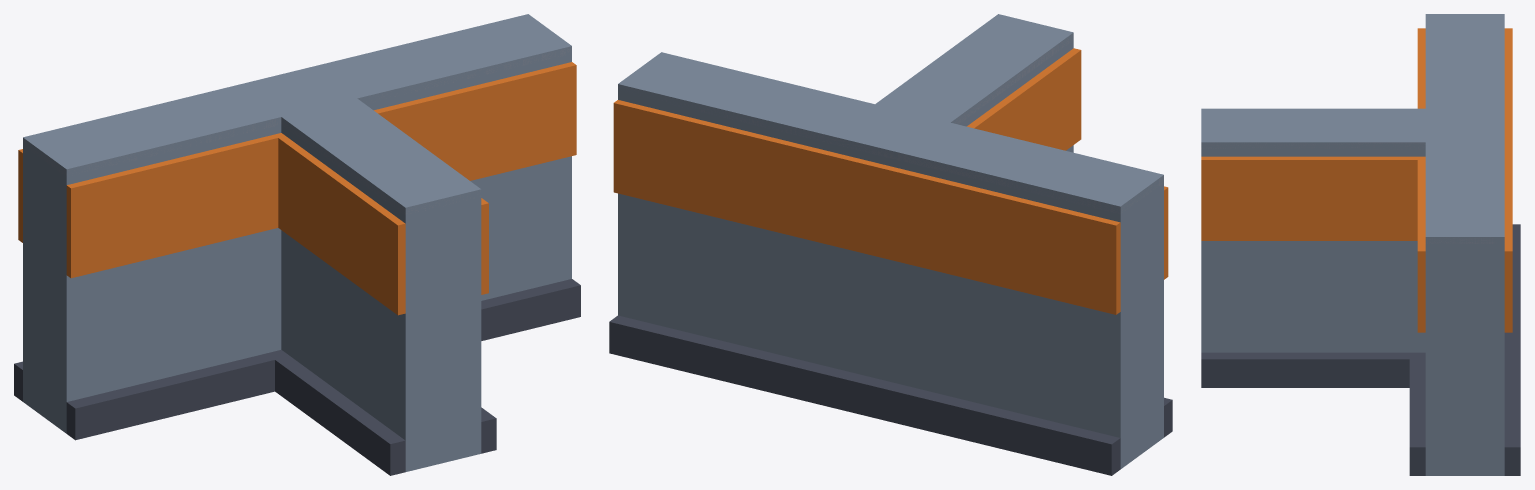
The model's file is partition-tee.glb.
The picture shows the model from 3 angles, left to right: view 1: azimuth 30°, elevation 25°; view 2: azimuth 150°, elevation 25°; view 3: azimuth 270°, elevation 25°; orthographic projection. The views are drawn at different scales.
Visible parts, largest first — view 1: partition-tee; view 2: partition-tee; view 3: partition-tee.
Boxes of the visible parts, x1,y1,x2,y2 form: partition-tee: [14, 14, 580, 475]; partition-tee: [609, 14, 1172, 475]; partition-tee: [1201, 14, 1520, 475].
Size of the model in its own units: 1 by 0.5 by 0.605.
1 material, 1 textured.
